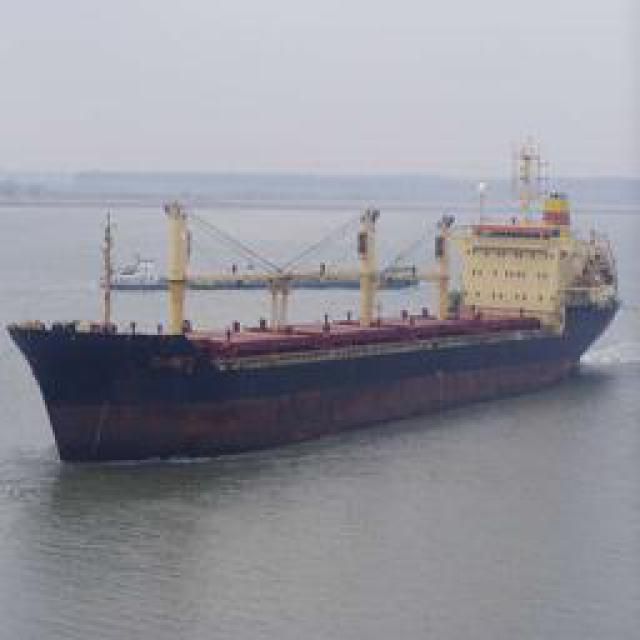Ship: (11, 196, 629, 476)
